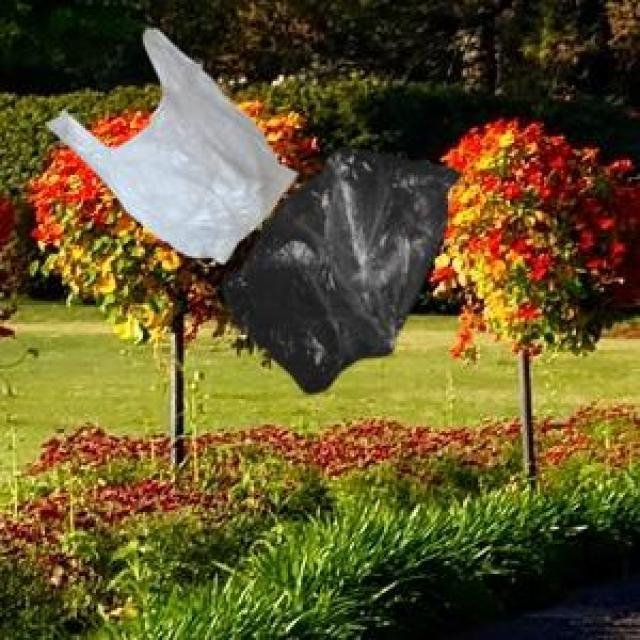Single-layer Plastic: (33, 15, 311, 290), (213, 137, 470, 413)
